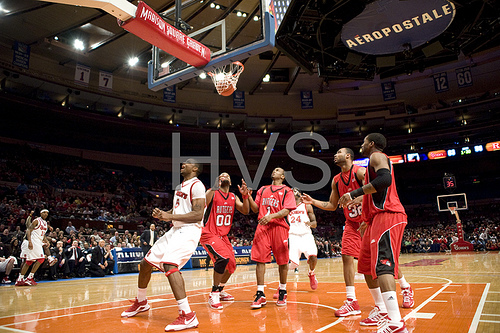basketball: (216, 78, 234, 95)
